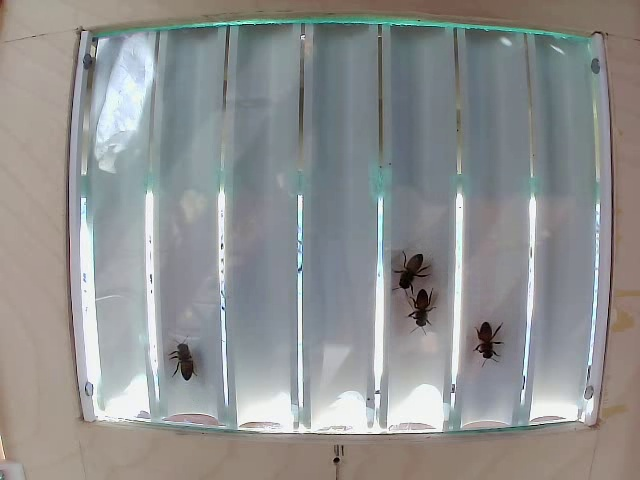bee: (388, 254, 427, 288), (166, 355, 208, 381), (398, 289, 432, 321), (468, 320, 500, 353)
